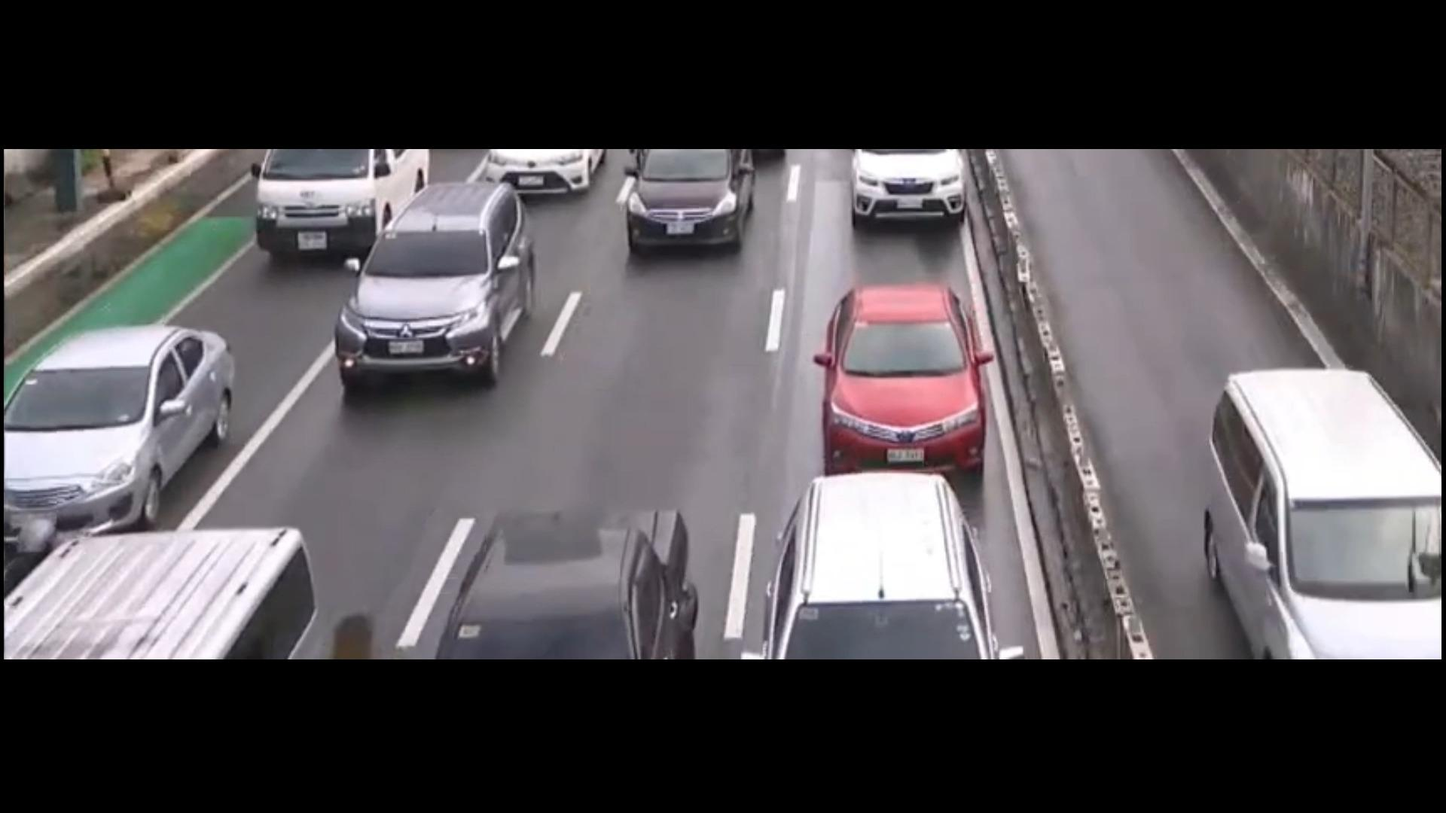Pickup: (429, 507, 700, 658)
SUV: (1200, 369, 1438, 658), (745, 471, 1012, 659), (336, 180, 534, 399)
Sedan: (5, 327, 235, 545), (821, 284, 988, 477), (625, 151, 753, 251)
Van: (4, 524, 328, 659), (250, 149, 429, 273)
